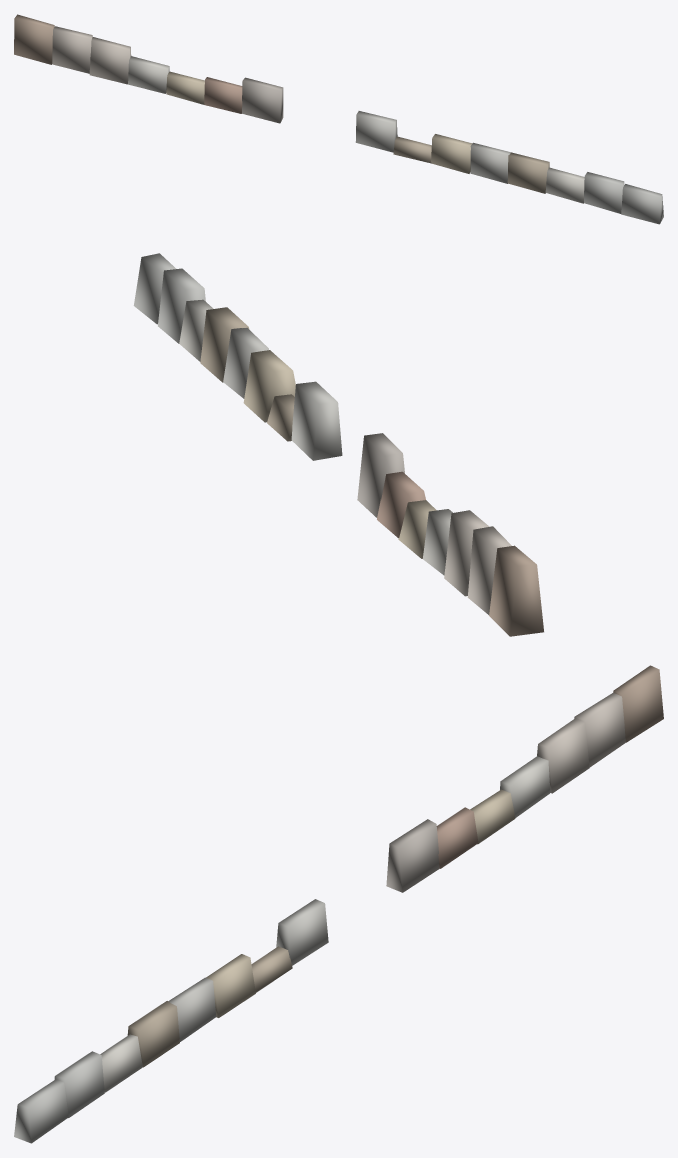
Rendered from farm_-4_-6_far.glb.
3 renders of one model, top to bottom at view 1: azimuth 30°, elevation 25°; view 2: azimuth 150°, elevation 25°; view 3: azimuth 270°, elevation 25°, orthographic. The views are drawn at different scales.
Parts seen in each view (by area): view 1: geometry_0; view 2: geometry_0; view 3: geometry_0.
Part boxes in pixels (x1,y1,x2,y2): geometry_0: (14, 14, 663, 224); geometry_0: (133, 253, 543, 636); geometry_0: (14, 665, 663, 1143).
Size of the model in its own units: 19.17 by 5.95 by 18.27.
